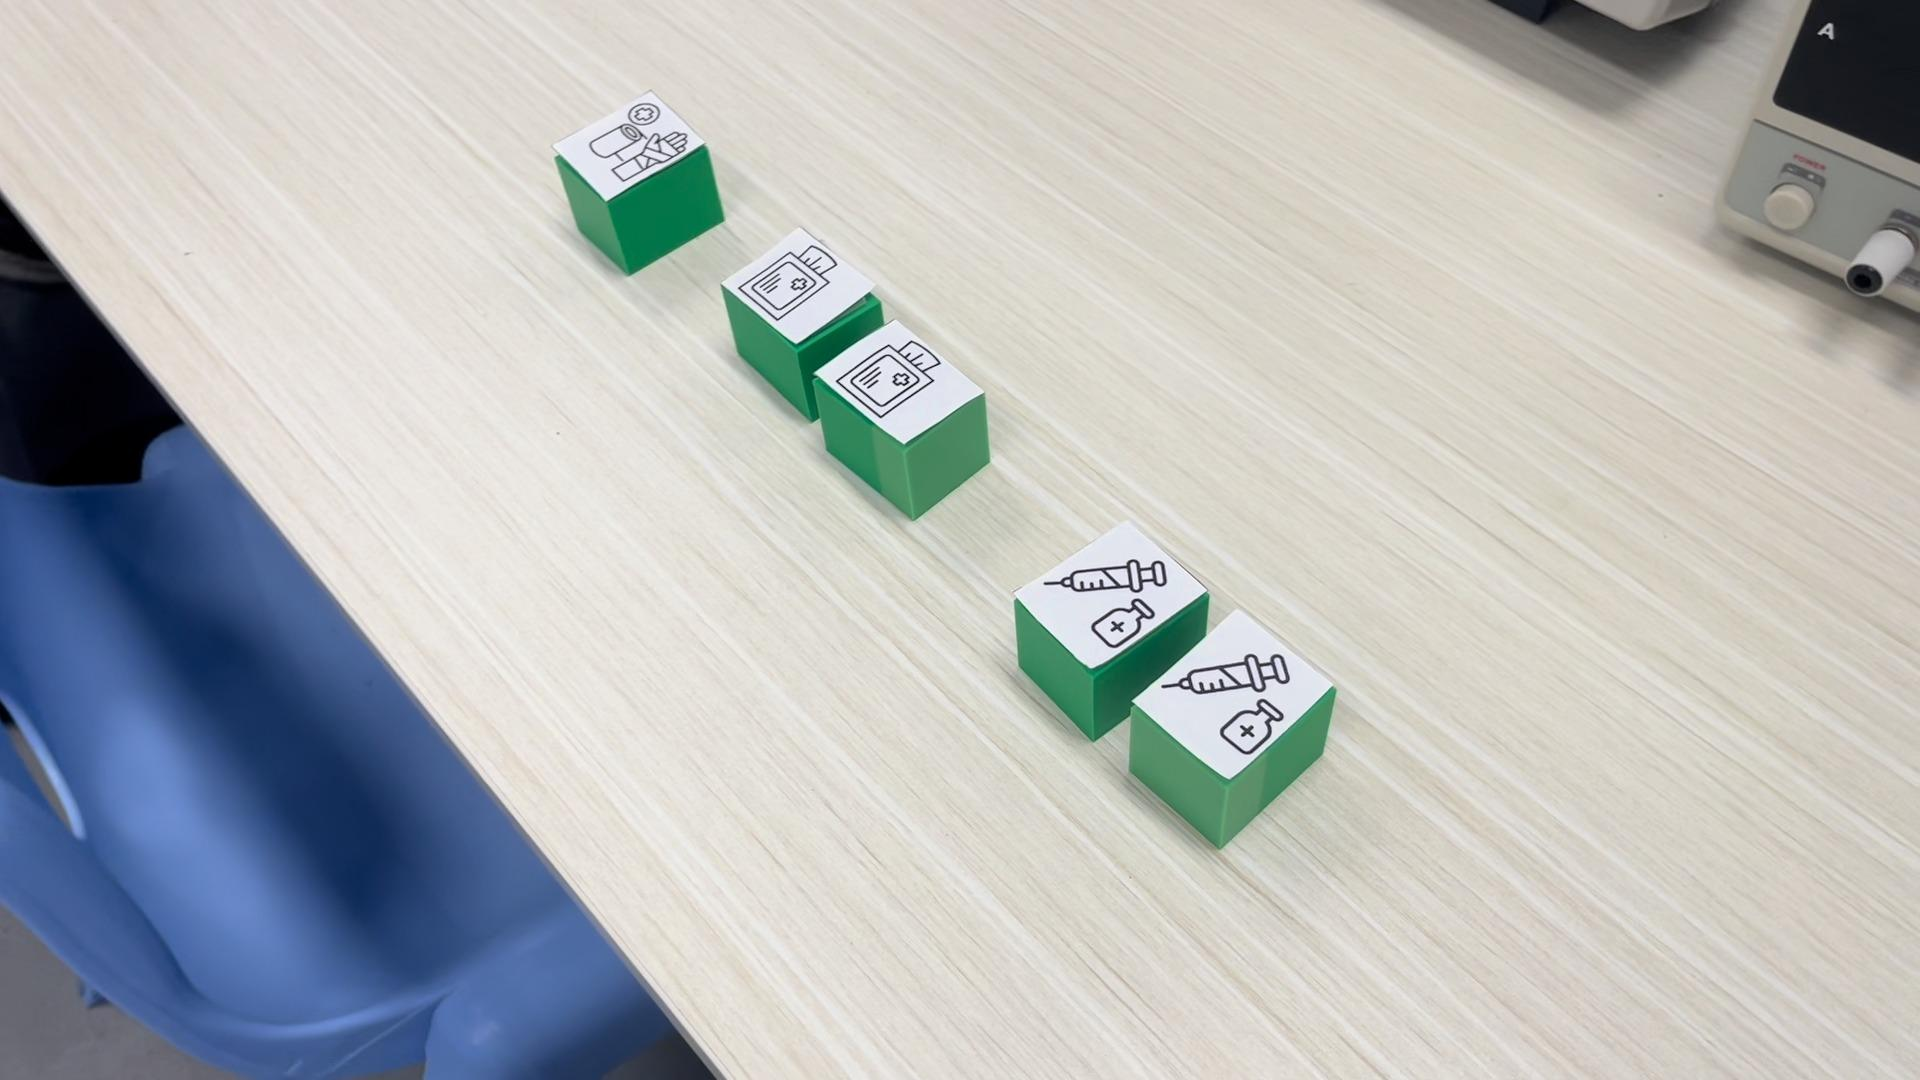Bandages: (549, 94, 725, 274)
Gauze: (812, 318, 992, 521), (717, 227, 882, 348)
antiseptic cream: (1120, 603, 1338, 847), (1015, 518, 1204, 674)
